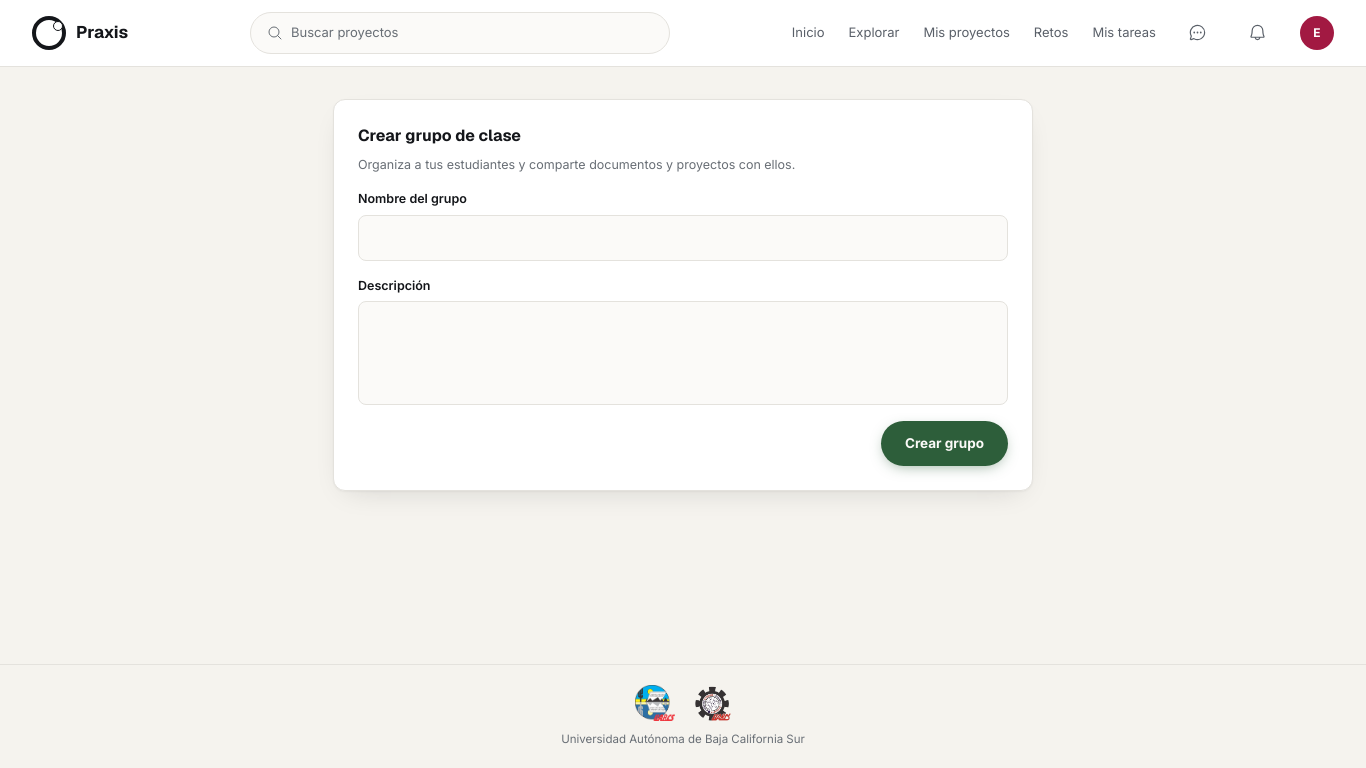
it: CrearGrupoClase — required-field validation › shows required-field errors and blocks submission when the form is empty
This screenshot has width=1366, height=768.
Click the button "Crear grupo": point(944, 443) [881, 421, 1008, 466]
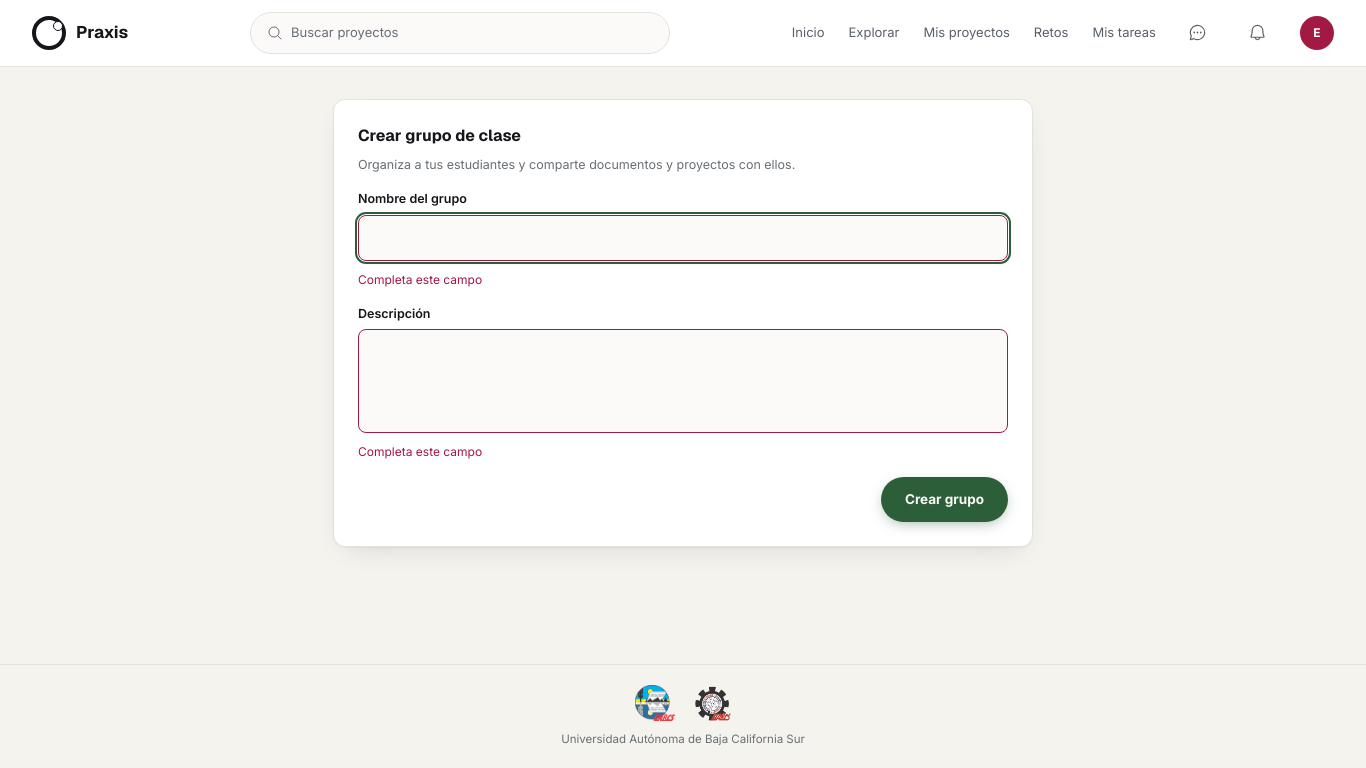
expect the text "Completa este campo" is shown 2 times: met, box [358, 272, 482, 286]; [358, 444, 482, 459]
